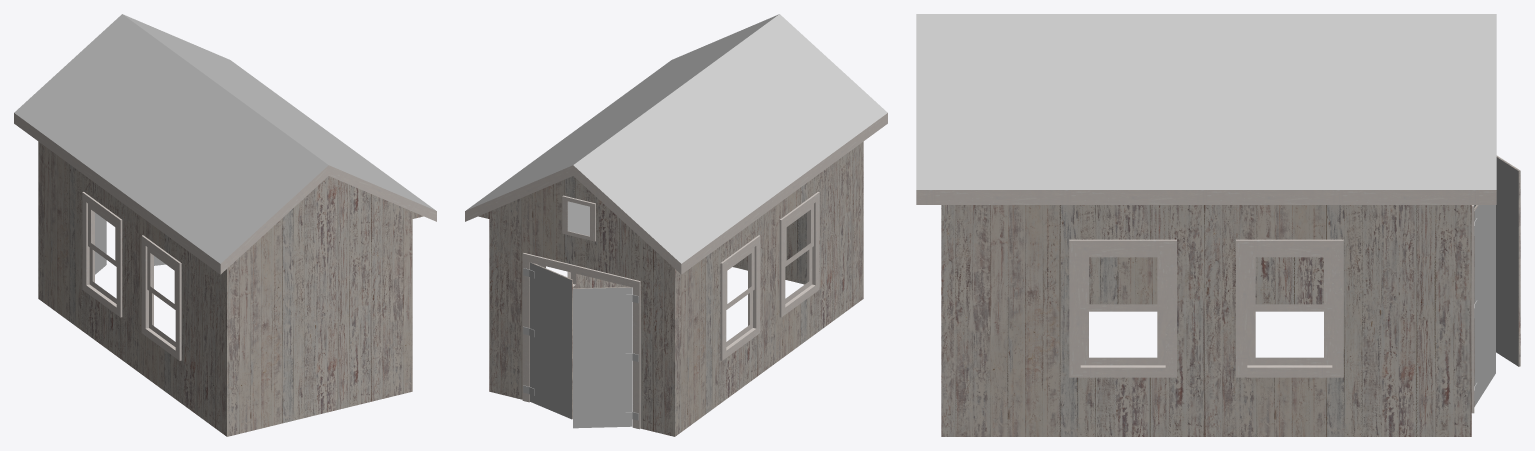
The model's file is OldShed.dae.
The picture shows the model from 3 angles, left to right: view 1: azimuth 30°, elevation 25°; view 2: azimuth 150°, elevation 25°; view 3: azimuth 270°, elevation 25°; orthographic projection. The views are drawn at different scales.
Visible parts, largest first — view 1: group_0 (×3), group_5, group_4, group_13, group_14, group_7; view 2: group_0 (×3), group_7, group_6, group_1, group_4, group_5, group_14, group_13, group_9; view 3: group_0 (×3), group_2, group_3, group_7 (×2), group_6, group_11, group_12, group_1.
Part boxes in pixels (x1,y1,x2,y2): group_0 (×3): (14,14,436,436); group_5: (141,235,181,360); group_4: (82,192,122,317); group_13: (88,204,116,303); group_14: (147,247,175,346); group_7: (95,212,106,274); group_0 (×3): (465,14,887,436); group_7: (573,287,632,428); group_6: (530,262,571,419); group_1: (522,253,640,429); group_4: (720,235,760,360); group_5: (779,192,819,317); group_14: (785,204,813,303); group_13: (726,247,754,346); group_9: (562,195,595,241); group_0 (×3): (916,14,1496,436); group_2: (1069,239,1176,377); group_3: (1236,239,1343,377); group_7 (×2): (1474,155,1520,366); group_6: (1474,205,1495,406); group_11: (1247,251,1332,365); group_12: (1080,251,1165,365); group_1: (1471,205,1474,413).
Size of the model in its own units: 126 by 217 by 142.
